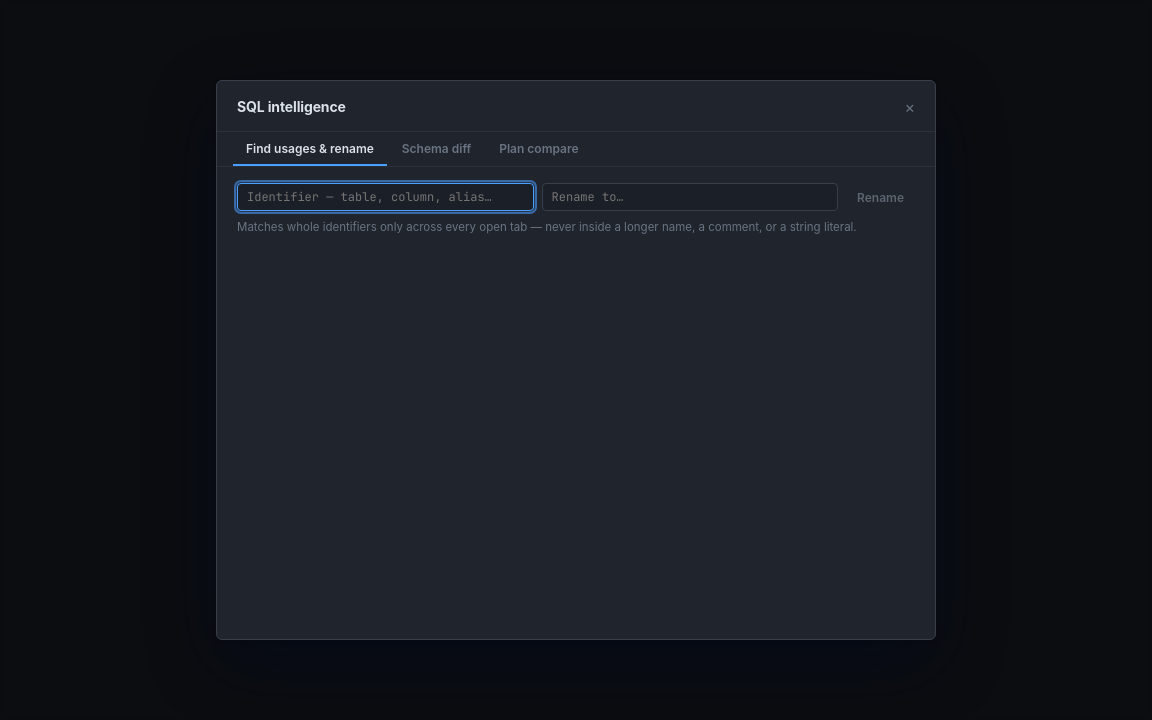
Test case: IntelModal — schema diff › refuses to diff a schema against itself
Click the button "Schema diff": (436,149) [389,132,484,166]
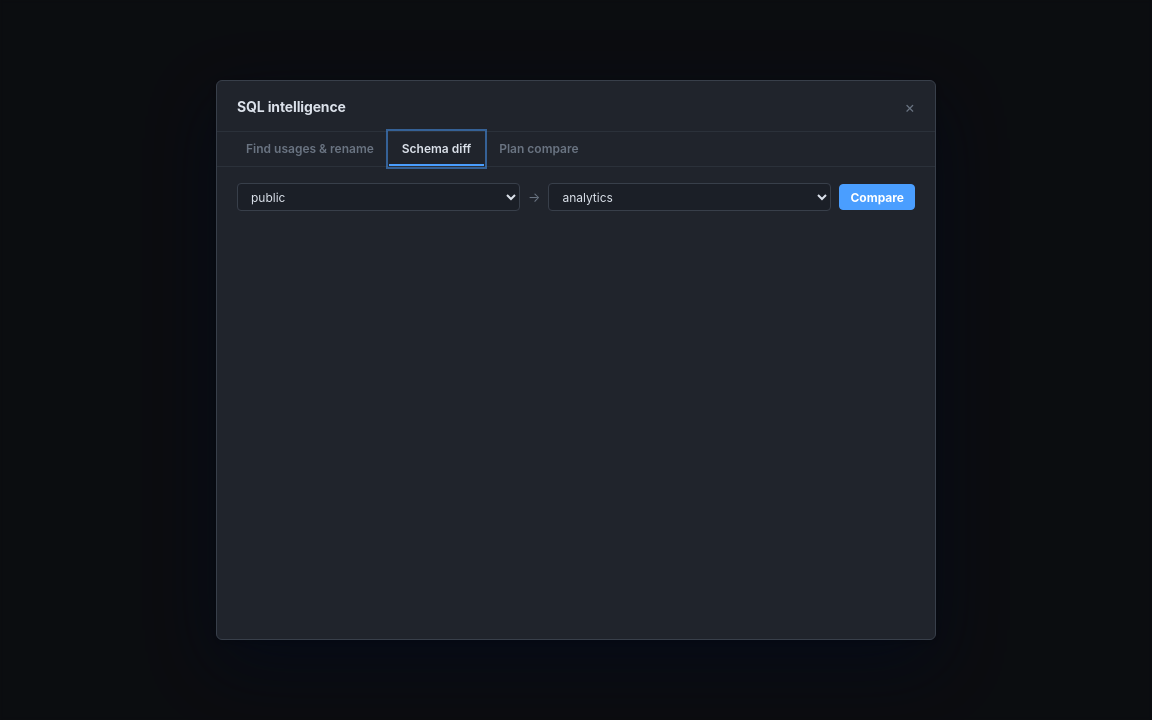
Select "public" in the 2nd dropdown: (690,197) [548,183,831,211]
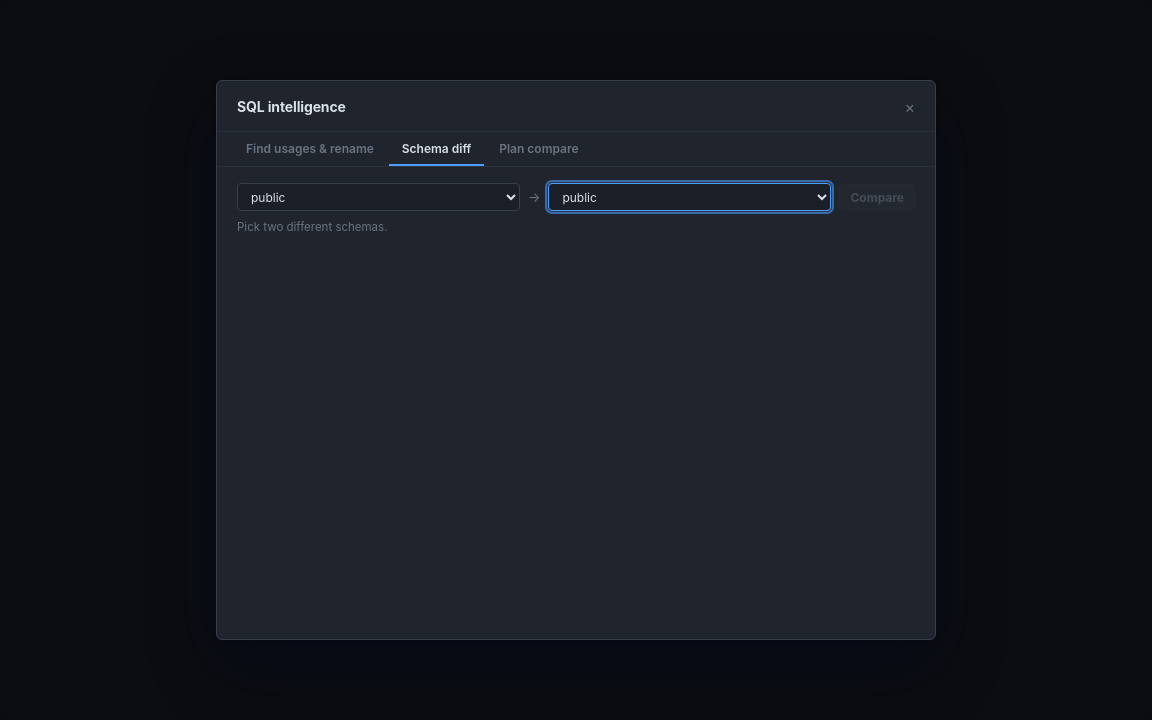
Result: the text "Pick two different schemas." is shown at [237,220,388,234]
Result: the button "Compare" is disabled at [839,184,915,210]
